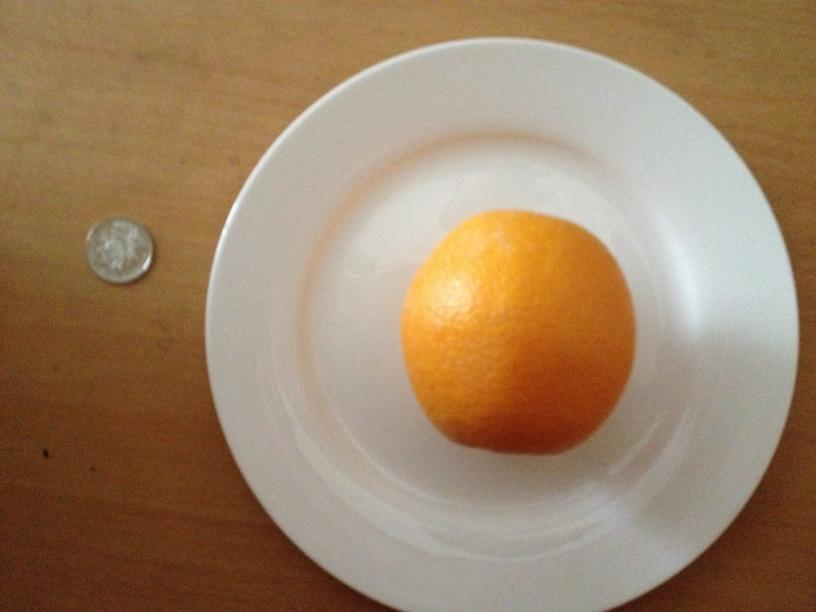coin: (84, 216, 155, 284)
orange: (393, 208, 636, 458)
